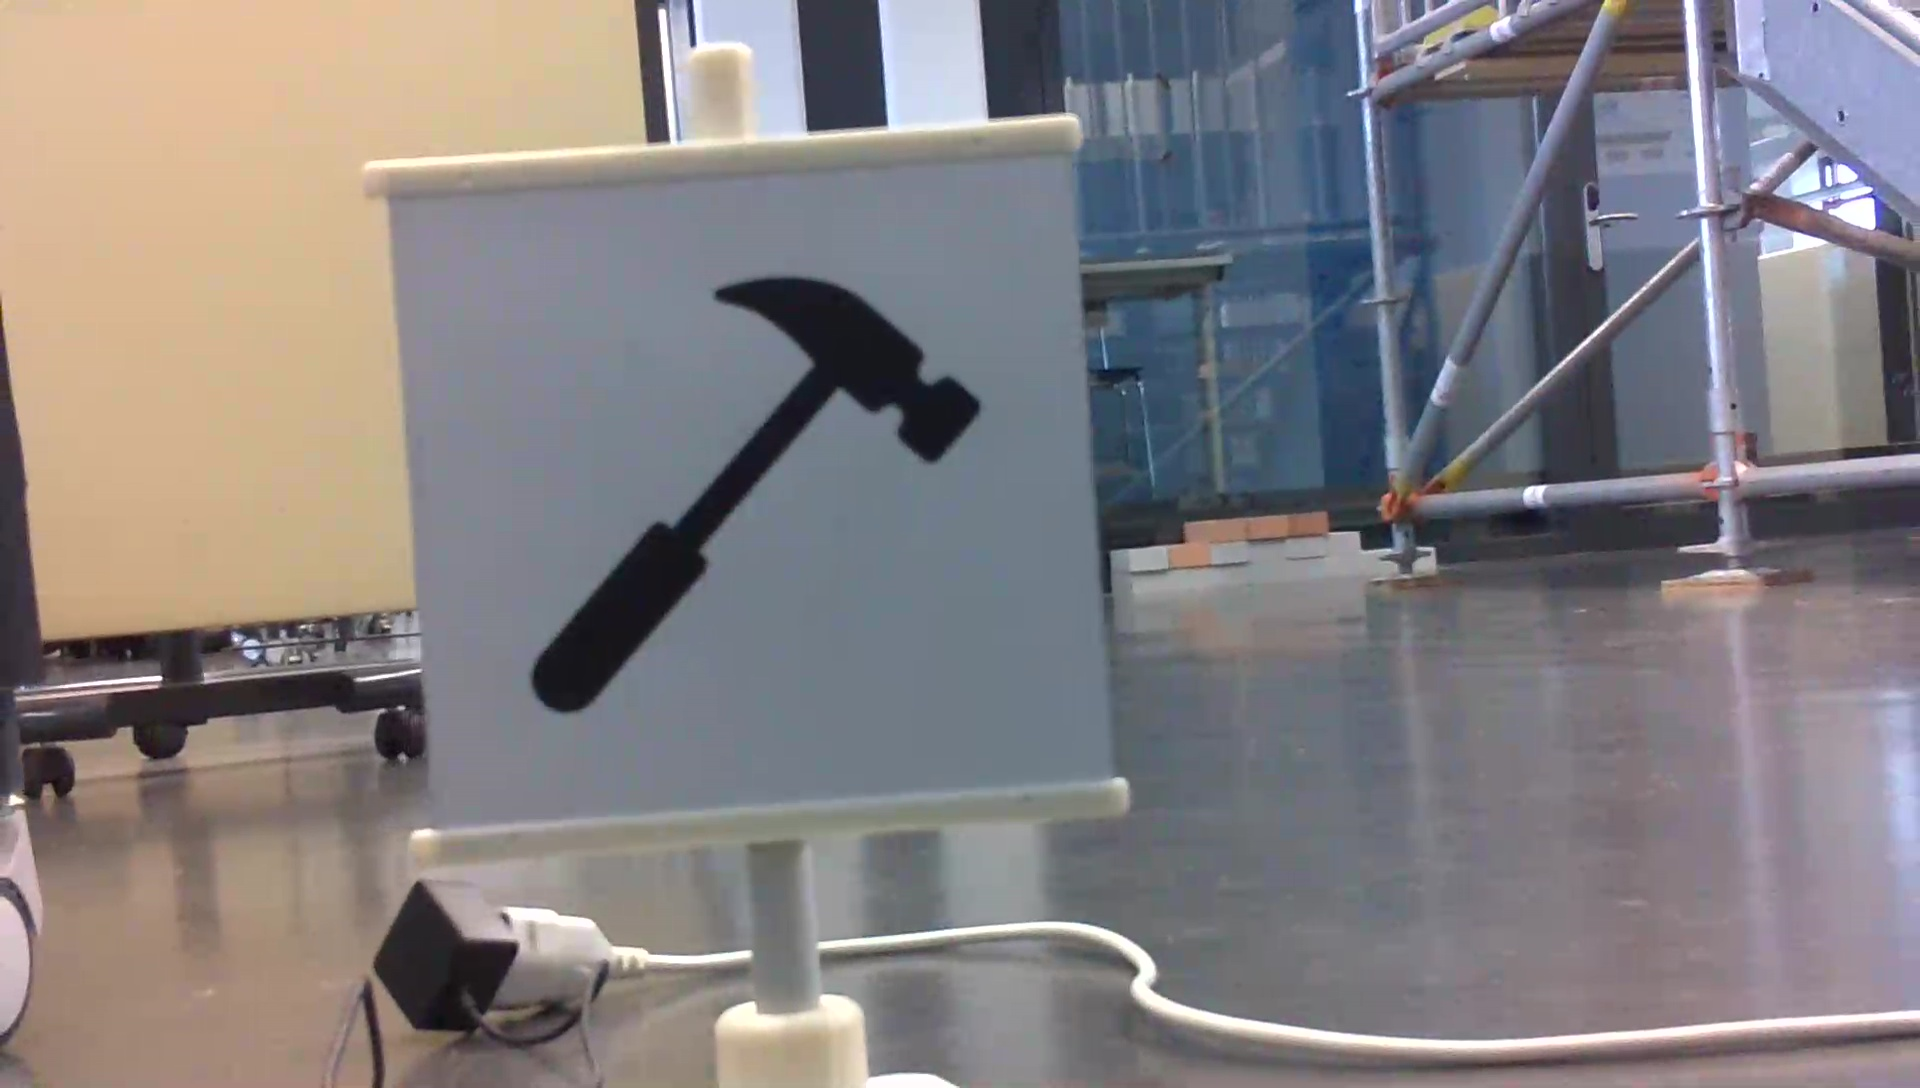hammer: (521, 262, 994, 723)
